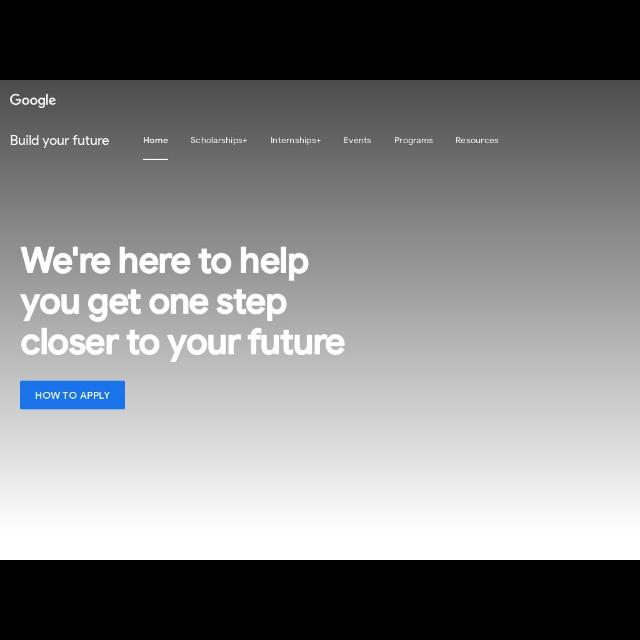image: (9, 90, 56, 110)
multitab: (136, 132, 504, 152)
text: (21, 244, 347, 358), (10, 132, 110, 148), (267, 135, 323, 149), (188, 135, 248, 147), (455, 136, 497, 146), (395, 136, 433, 144), (142, 136, 170, 146), (344, 134, 371, 144)
textbutton: (20, 381, 124, 411)
